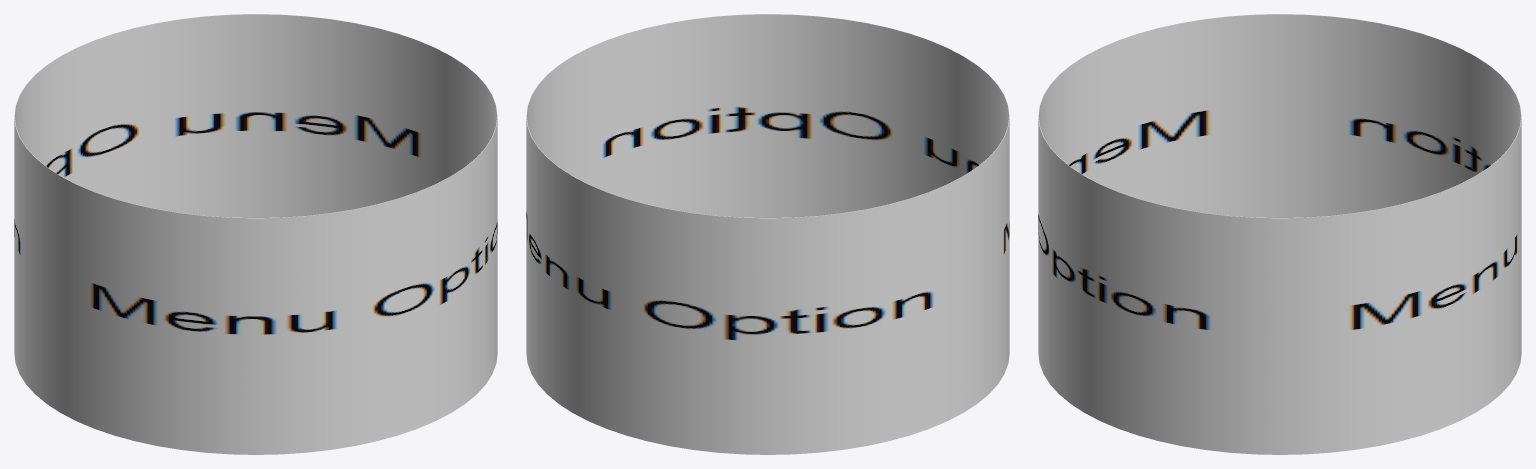
File: CoreRing.fbx
The picture shows the model from 3 angles, left to right: view 1: azimuth 30°, elevation 25°; view 2: azimuth 150°, elevation 25°; view 3: azimuth 270°, elevation 25°; orthographic projection.
Visible parts, largest first — view 1: pPipe1; view 2: pPipe1; view 3: pPipe1.
Part boxes in pixels (<box>): pPipe1: <box>14,14,497,454</box>; pPipe1: <box>526,14,1009,454</box>; pPipe1: <box>1038,14,1521,454</box>.
Size of the model in its own units: 4.51 by 2.43 by 4.51.
1 material, 1 textured.
